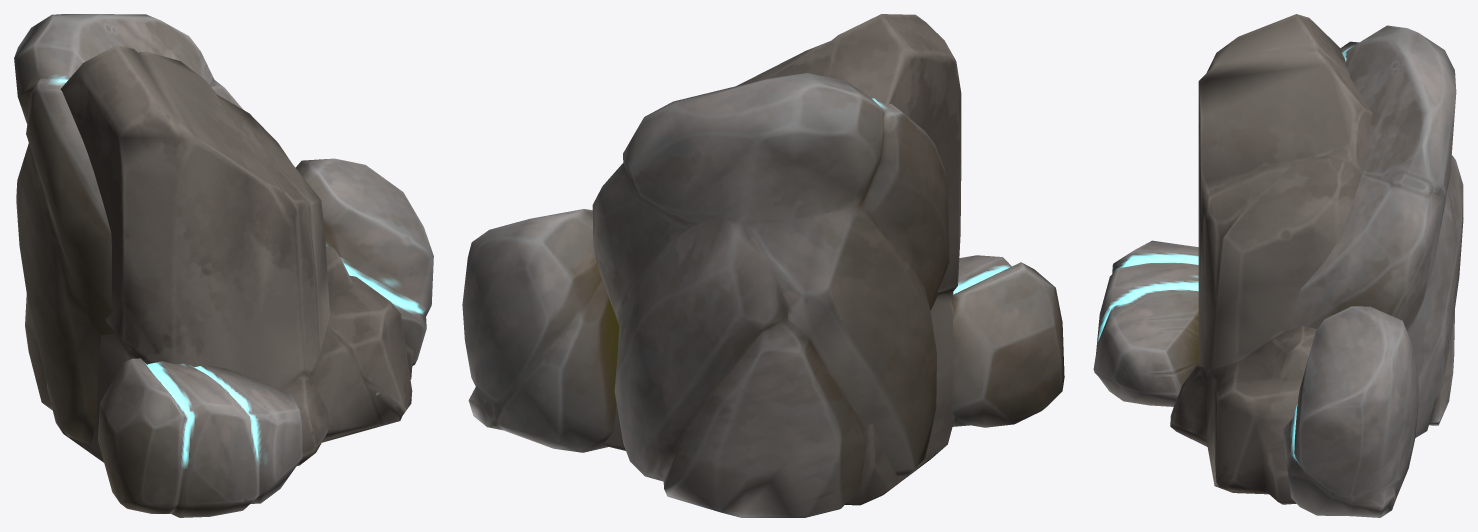
File: rock2.fbx
The picture shows the model from 3 angles, left to right: view 1: azimuth 30°, elevation 25°; view 2: azimuth 150°, elevation 25°; view 3: azimuth 270°, elevation 25°; orthographic projection. The views are drawn at different scales.
Visible parts, largest first — view 1: Rock6_phongE1_0, Rock7_phongE1_0; view 2: Rock7_phongE1_0, Rock6_phongE1_0; view 3: Rock7_phongE1_0, Rock6_phongE1_0.
Part boxes in pixels (bbox=[...]): Rock6_phongE1_0: bbox=[46, 45, 413, 465]; Rock7_phongE1_0: bbox=[14, 14, 433, 517]; Rock7_phongE1_0: bbox=[462, 73, 1064, 517]; Rock6_phongE1_0: bbox=[603, 14, 961, 505]; Rock7_phongE1_0: bbox=[1093, 25, 1463, 517]; Rock6_phongE1_0: bbox=[1170, 14, 1372, 504].
Bounding box in the file's own units: 122 × 115 × 105.
